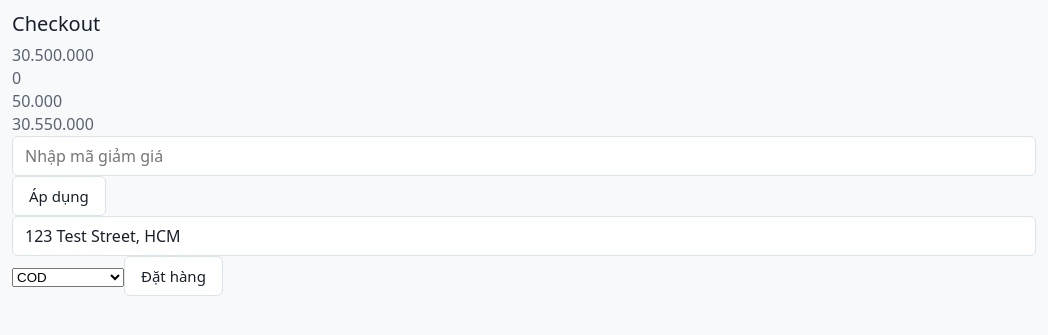
Test: Purchase Mock Tests › Mock: Đặt hàng thành công
Click the button with test id "place-order-btn" at point(173, 276), box [124, 256, 223, 296]
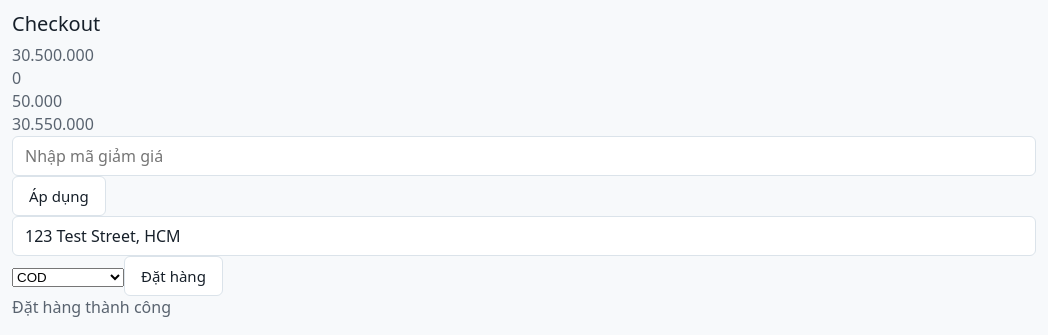
Now the text "Đặt hàng thành công" is shown, box [12, 296, 171, 318]
